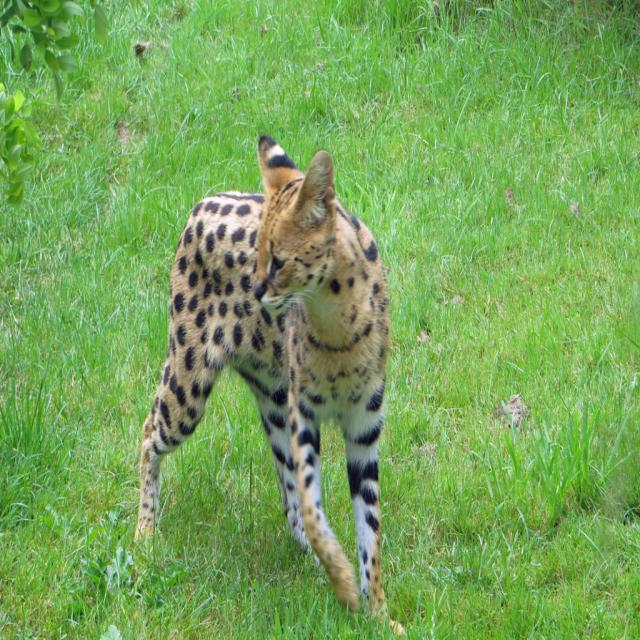Cheetah: (134, 134, 406, 637)
